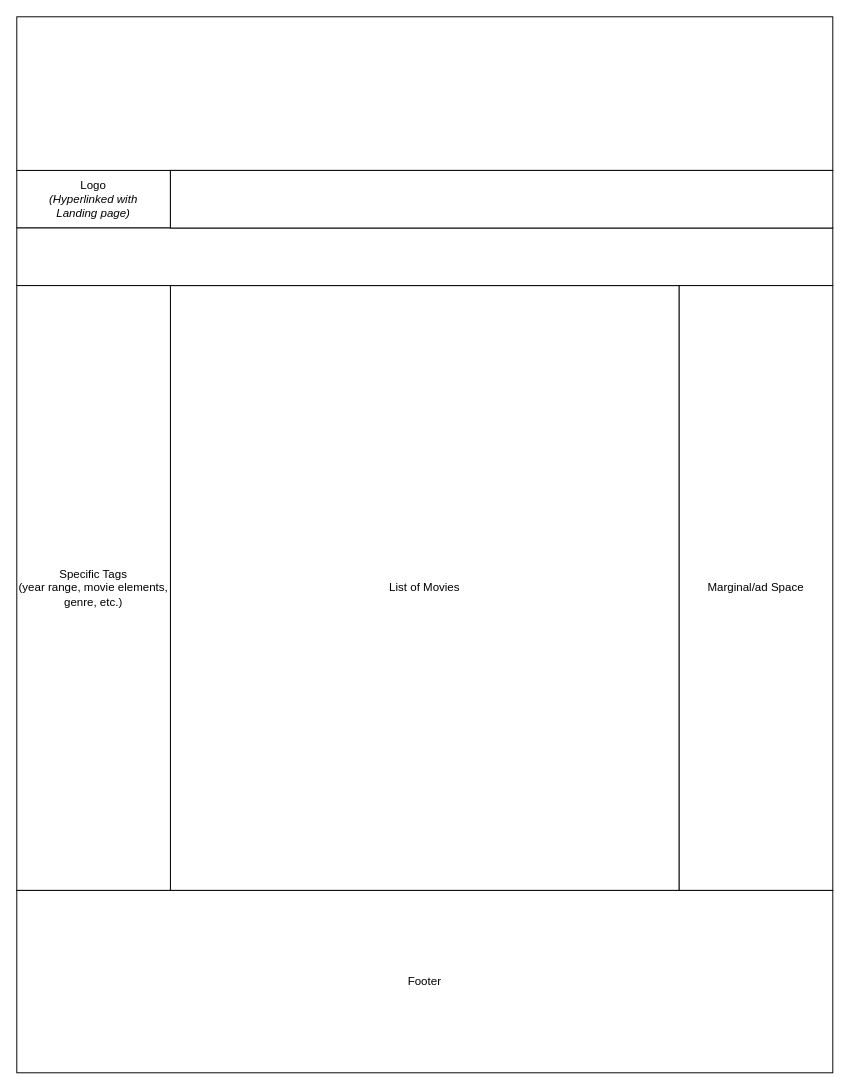
This 850x1090 diagram has some shape labels left out. Here are the shapes that lost their labels. From the top down, the centre of each, then its label:
At point 424,93: "Header".
At point 501,198: "Navigation".
At point 424,256: "Sorting selections (release date, name, ratings, etc.)".
